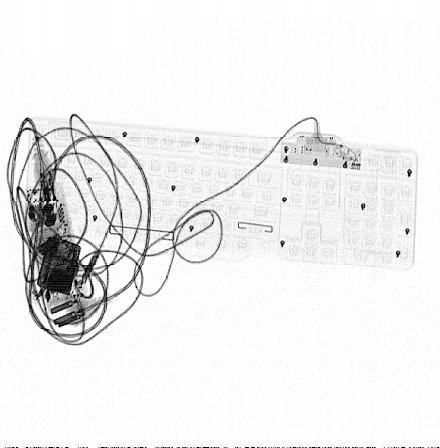Lighter: (36, 236, 81, 296)
